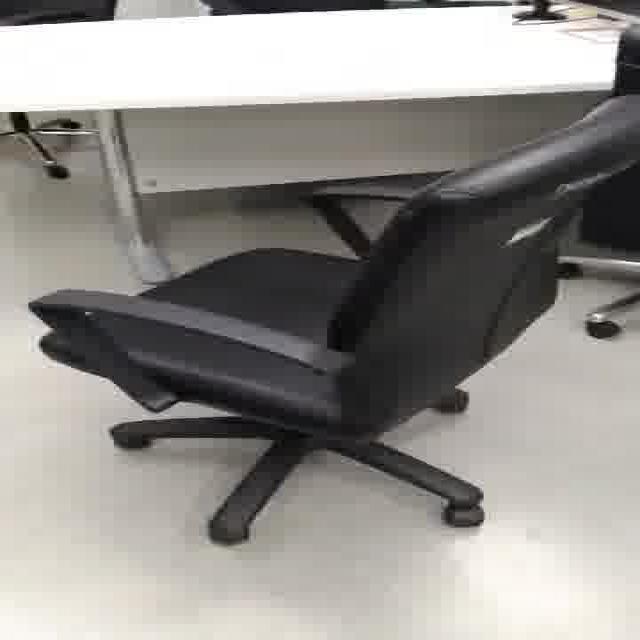chair: (16, 68, 640, 578)
